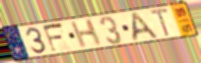3: (99, 15, 123, 46), (25, 26, 48, 56)
A: (131, 11, 161, 43)
F: (41, 21, 66, 54)
H: (69, 18, 104, 50)
T: (149, 7, 172, 39)
